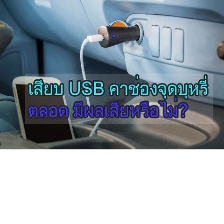phone: (8, 73, 80, 157)
